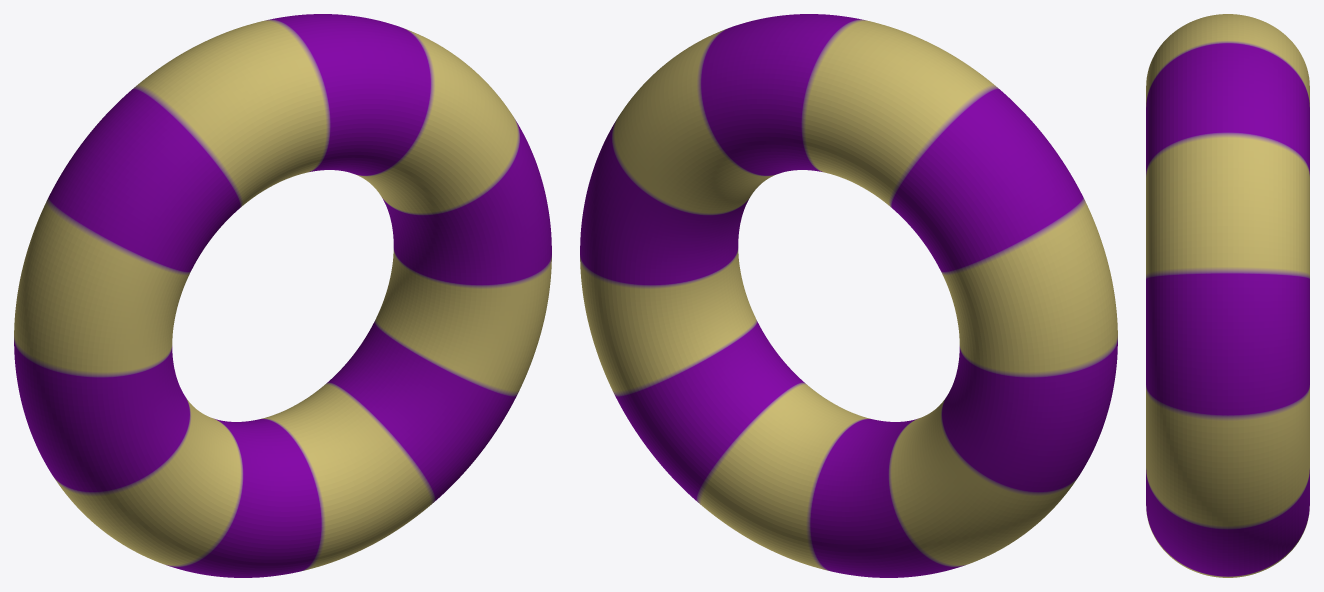
The model's file is shadow_light_resonance_torus_banded_indigo_elliptic.glb.
3 views of the same model, side by side, from view 1: azimuth 30°, elevation 25°; view 2: azimuth 150°, elevation 25°; view 3: azimuth 270°, elevation 25° (orthographic). The views are drawn at different scales.
Visible parts, largest first — view 1: world; view 2: world; view 3: world.
Boxes of the visible parts, x1,y1,x2,y2 form: world: (14,14,551,577); world: (580,14,1117,577); world: (1146,14,1309,577).
Size of the model in its own units: 2.7 by 2.7 by 0.784.
